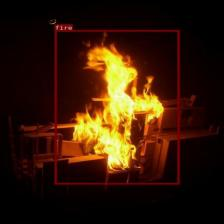fire: (54, 30, 179, 184)
